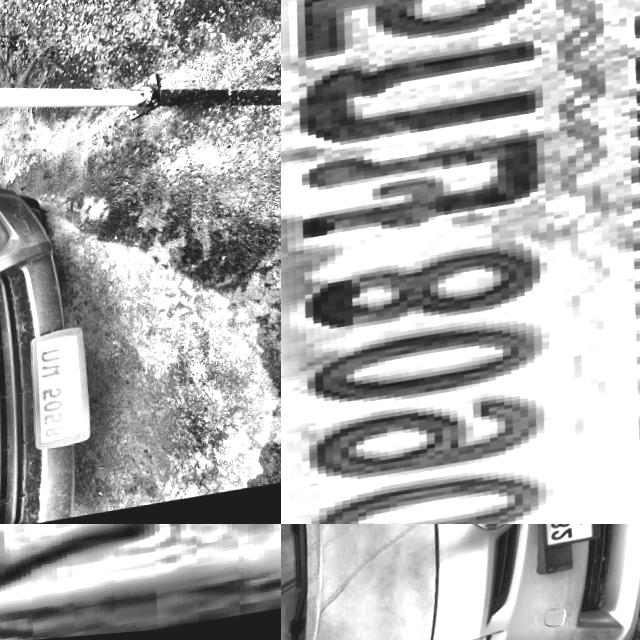license-plate: (281, 0, 640, 524), (0, 524, 281, 640), (30, 329, 105, 462), (532, 524, 611, 557)
